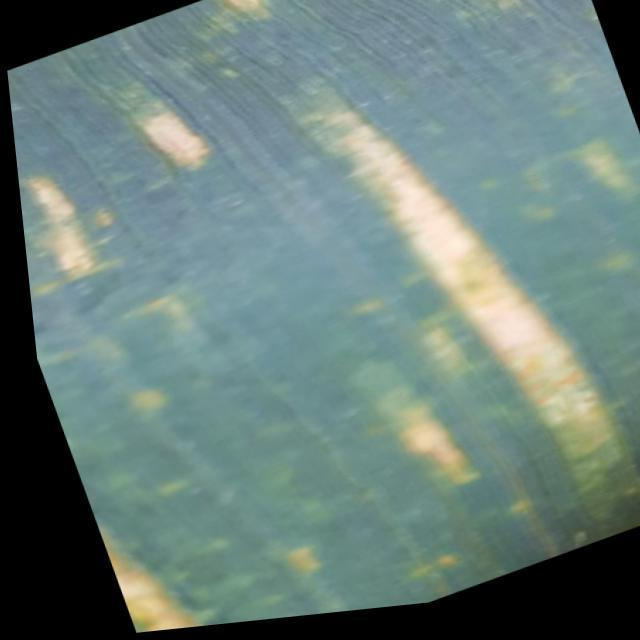Yellow Rust: (5, 0, 639, 633)
